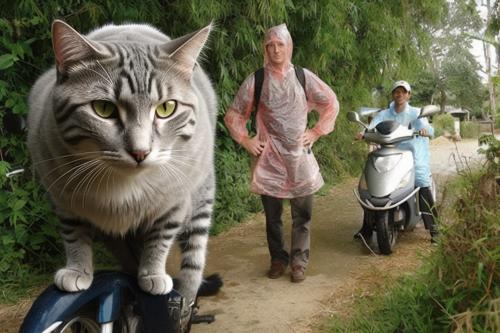cat: (24, 18, 219, 296)
motorbike: (3, 90, 213, 331), (343, 102, 445, 260)
person: (229, 21, 343, 291), (354, 81, 440, 244)
person/foot: (267, 263, 284, 279), (291, 266, 306, 282), (351, 229, 373, 238), (429, 229, 439, 244)
person/hand: (241, 134, 264, 156), (301, 127, 319, 149), (352, 130, 363, 141), (419, 127, 430, 137)
person/head: (264, 26, 291, 62), (392, 79, 410, 104)
